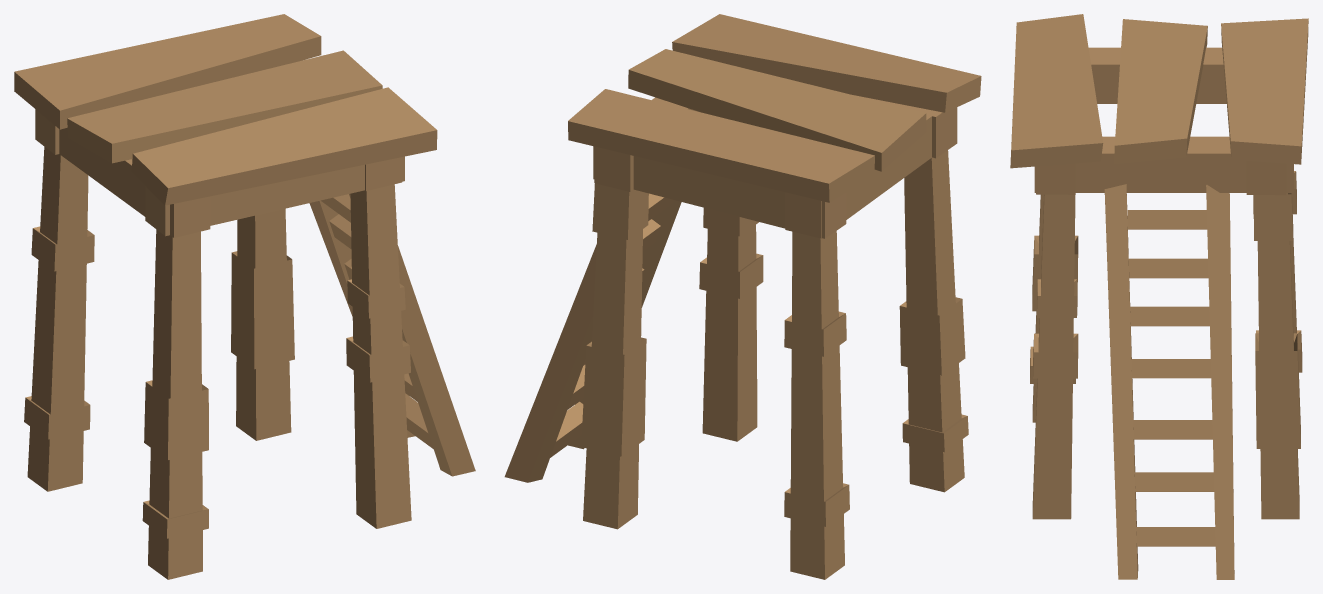
The model's file is archer tower.fbx.
The picture shows the model from 3 angles, left to right: view 1: azimuth 30°, elevation 25°; view 2: azimuth 150°, elevation 25°; view 3: azimuth 270°, elevation 25°; orthographic projection. The views are drawn at different scales.
Visible parts, largest first — view 1: Cube.007; view 2: Cube.007; view 3: Cube.007.
Boxes of the visible parts, box(x1,y1,x2,y2) form: Cube.007: box(14, 14, 475, 579); Cube.007: box(504, 14, 981, 579); Cube.007: box(1010, 14, 1308, 579).
Size of the model in its own units: 51.15 by 56.1 by 38.
